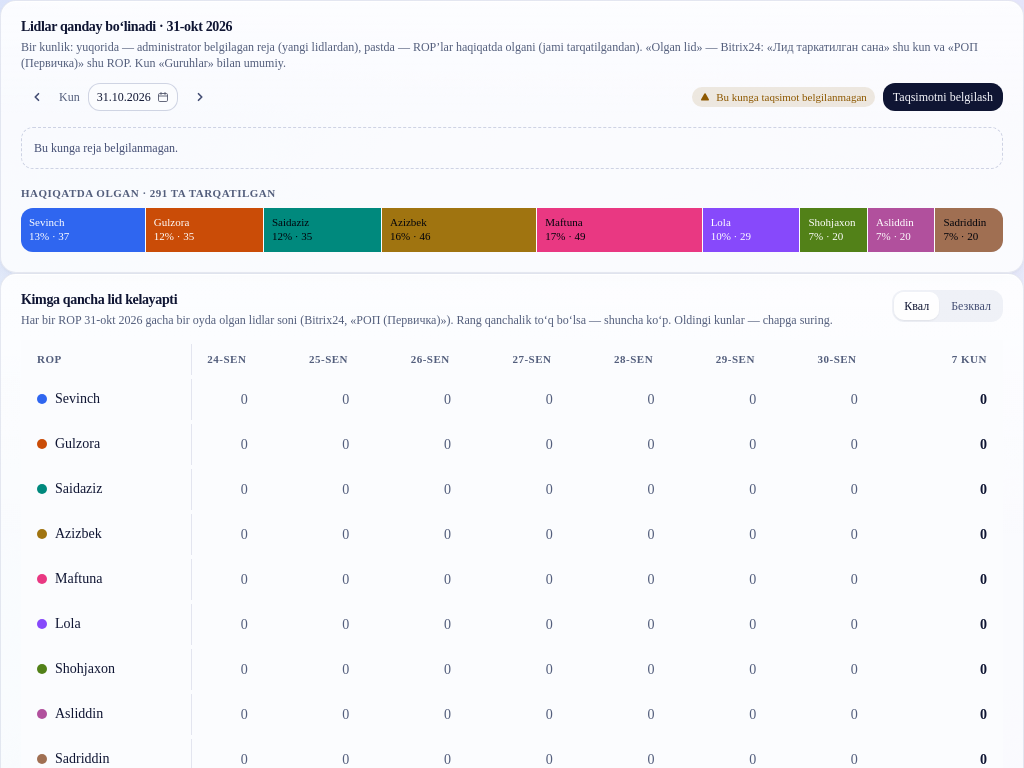
Test: LeadSplitCards › switches «Kimga qancha lid kelayapti» to «Безквал»: each ROP's clients, those no ROP got, and the deals behind them
Expected: the text "Sevinch" is shown, [29, 216, 64, 228]
Step 1. Click the button "Безквал" → click(971, 306), box [941, 292, 1001, 320]
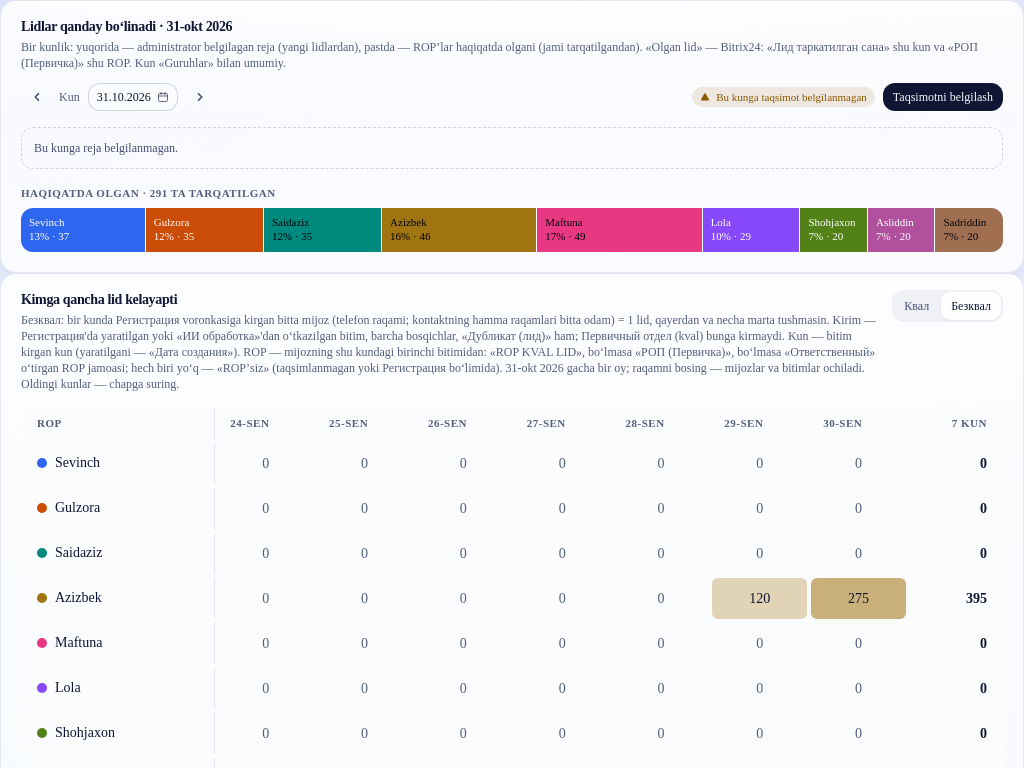
Now the button "275" is shown, box [819, 589, 898, 609]
Now the text "395" is shown, box [910, 578, 999, 619]
Now the text "bitta mijoz (telefon raqami" is shown, box [21, 312, 876, 390]
